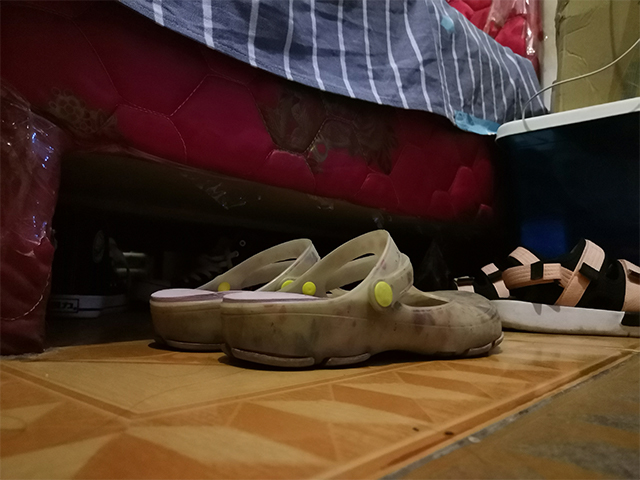slippers: (217, 232, 509, 372)
